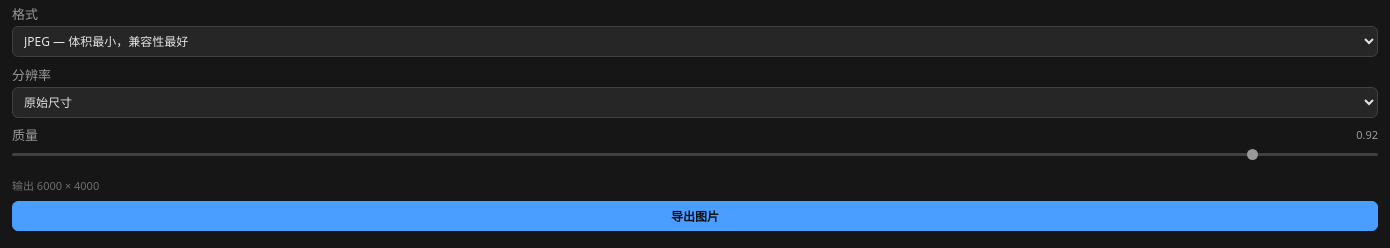
Test case: ExportPanel › recalculates the output size when a resolution is chosen
Select "长边 2048" in the dropdown labelled "分辨率" at (695, 102), box [12,87,1378,118]
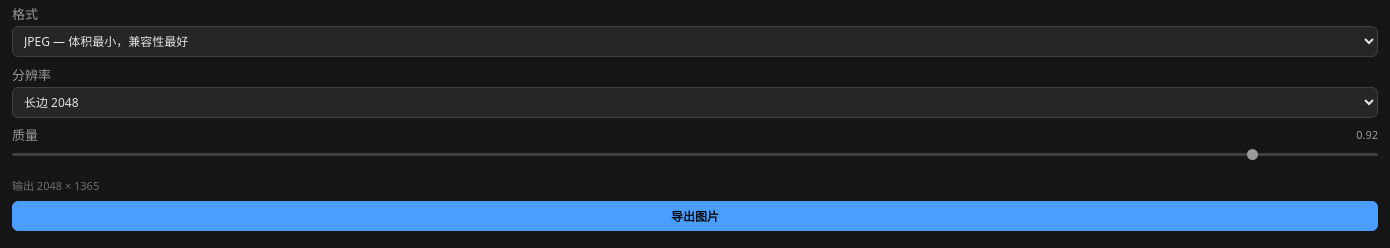
Check: the text "输出 2048 × 1365" is shown, box [12,178,99,193]
